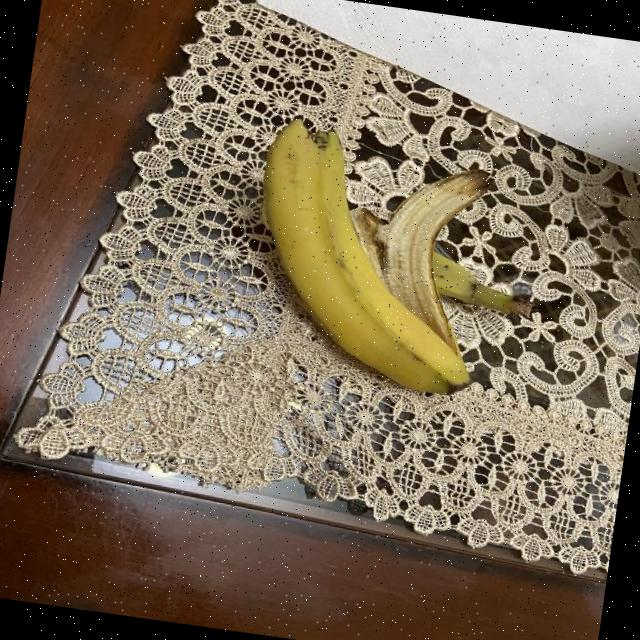banana-peel: (235, 111, 550, 407)
